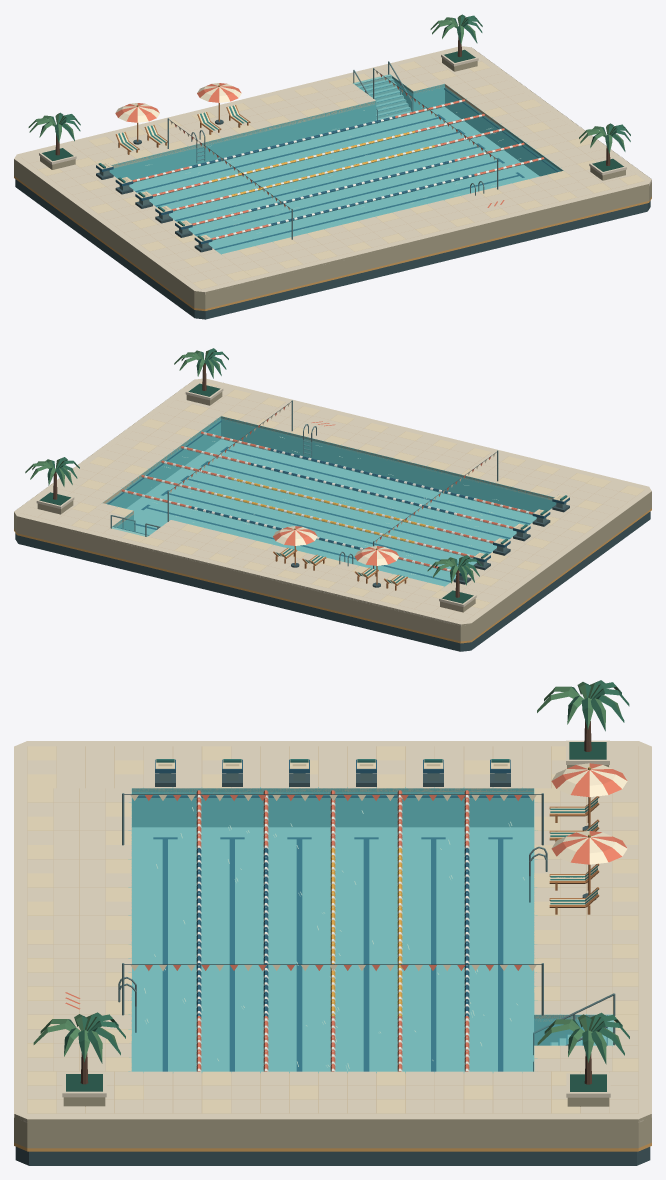
File: swim.glb
3 views of the same model, one above another, from view 1: azimuth 30°, elevation 25°; view 2: azimuth 150°, elevation 25°; view 3: azimuth 270°, elevation 25° (orthographic). The views are drawn at different scales.
Visible parts, largest first — view 1: SM_SW_Deck, SM_SW_Basin, SM_SW_Water, SM_SW_DeckFurniture, SM_SW_SurfaceDetails, SM_SW_StartBlocks; view 2: SM_SW_Deck, SM_SW_Basin, SM_SW_Water, SM_SW_DeckFurniture, SM_SW_SurfaceDetails, SM_SW_StartBlocks; view 3: SM_SW_Deck, SM_SW_Basin, SM_SW_Water, SM_SW_DeckFurniture, SM_SW_SurfaceDetails, SM_SW_StartBlocks.
Boxes of the visible parts, x1,y1,x2,y2 form: SM_SW_Deck: (14,46,651,319); SM_SW_Basin: (109,61,563,254); SM_SW_Water: (110,78,560,253); SM_SW_DeckFurniture: (28,14,630,239); SM_SW_SurfaceDetails: (132,99,544,240); SM_SW_StartBlocks: (96,162,212,252); SM_SW_Deck: (14,378,651,651); SM_SW_Basin: (103,416,556,586); SM_SW_Water: (105,418,555,586); SM_SW_DeckFurniture: (25,348,498,612); SM_SW_SurfaceDetails: (121,431,533,574); SM_SW_StartBlocks: (453,494,569,584); SM_SW_Deck: (14,741,651,1165); SM_SW_Basin: (128,787,615,1073); SM_SW_Water: (132,792,605,1071); SM_SW_DeckFurniture: (33,680,629,1106); SM_SW_SurfaceDetails: (144,790,524,1071); SM_SW_StartBlocks: (155,759,510,786).
Size of the model in its own units: 33.4 by 5.01 by 23.8.
2 materials, 1 textured.
